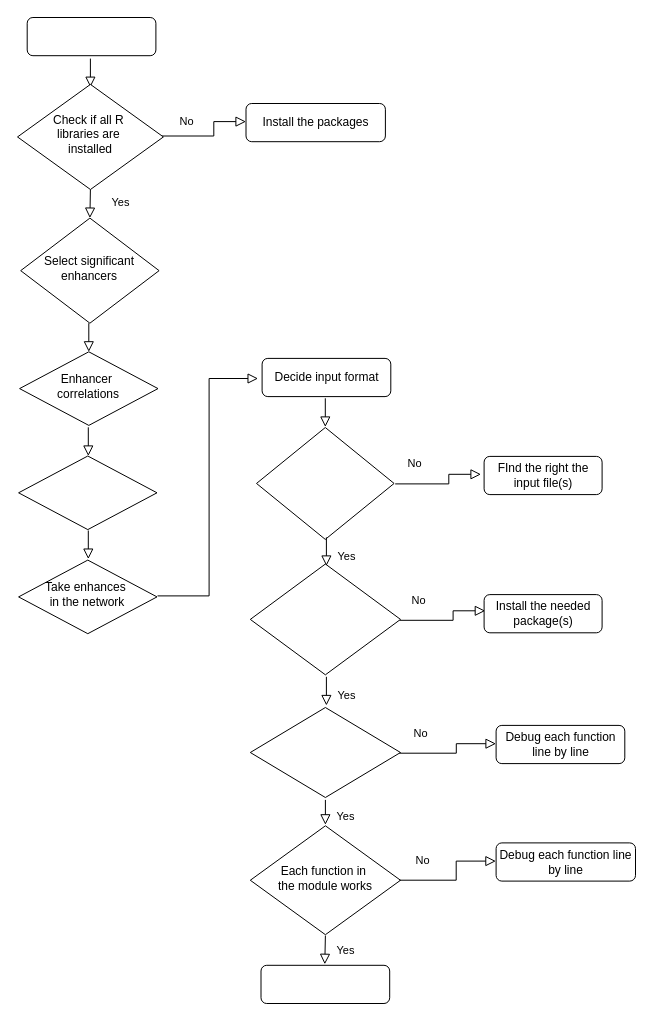
Some shapes in this 653 by 1021 pixel diagram are drawn without their labels. Each missing label, with the box of its shape:
Check if all python packages are installed: (249, 563, 400, 675)
Check if input has needed info: (256, 426, 394, 539)
Decide target gene: (26, 16, 156, 56)
Network analysis: (18, 455, 157, 530)
Output a cell-by-TE matrix: (260, 964, 390, 1004)
Unittest done successfully: (249, 706, 400, 798)
